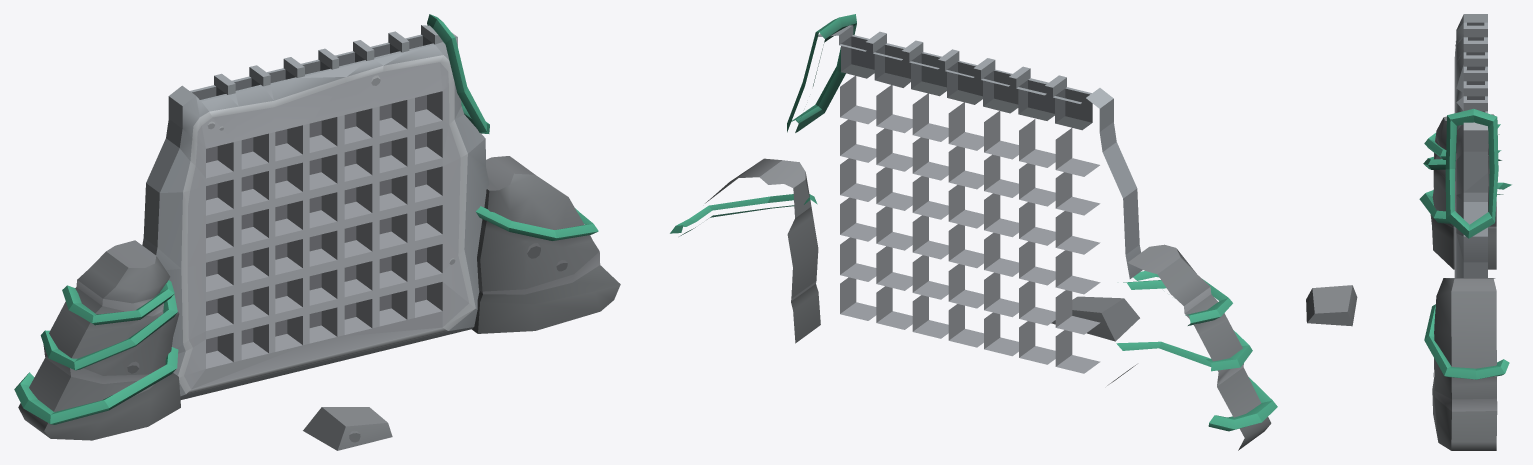
File: findFourGameBoard.glb
3 views of the same model, side by side, from view 1: azimuth 30°, elevation 25°; view 2: azimuth 150°, elevation 25°; view 3: azimuth 270°, elevation 25° (orthographic). The views are drawn at different scales.
Parts seen in each view (by area): view 1: findFourGameBoard; view 2: findFourGameBoard; view 3: findFourGameBoard.
Boxes of the visible parts, x1=… form: findFourGameBoard: x1=14, y1=14, x2=620, y2=450; findFourGameBoard: x1=670, y1=14, x2=1277, y2=450; findFourGameBoard: x1=1306, y1=14, x2=1511, y2=450.
Bounding box in the file's own units: 1.54 × 0.796 × 0.5584.
